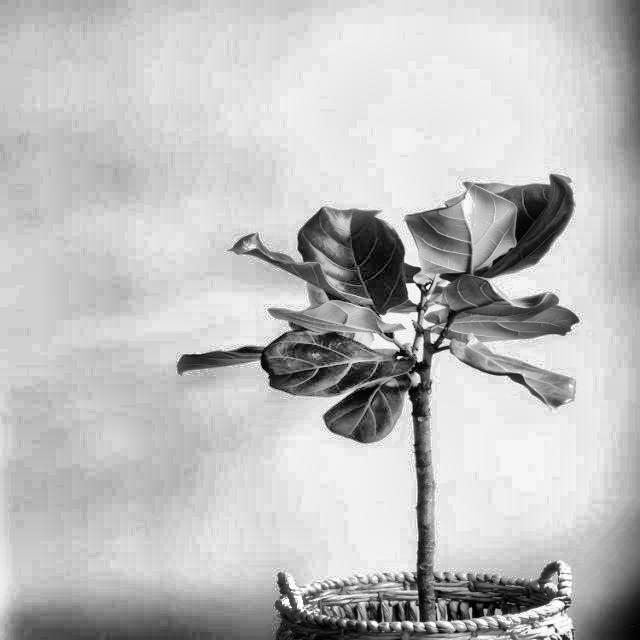plants: (164, 168, 610, 640)
